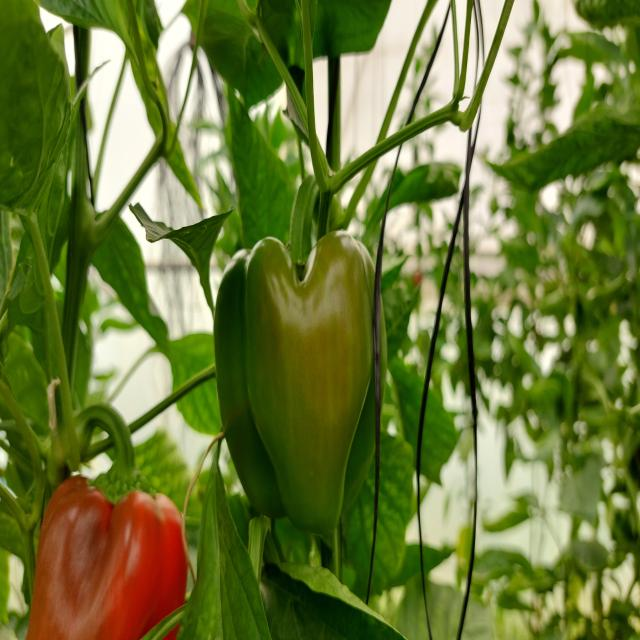Green--Not-ready-to-harvest: (213, 231, 396, 546)
Red-Ready-to-Harvest: (28, 474, 191, 640)
